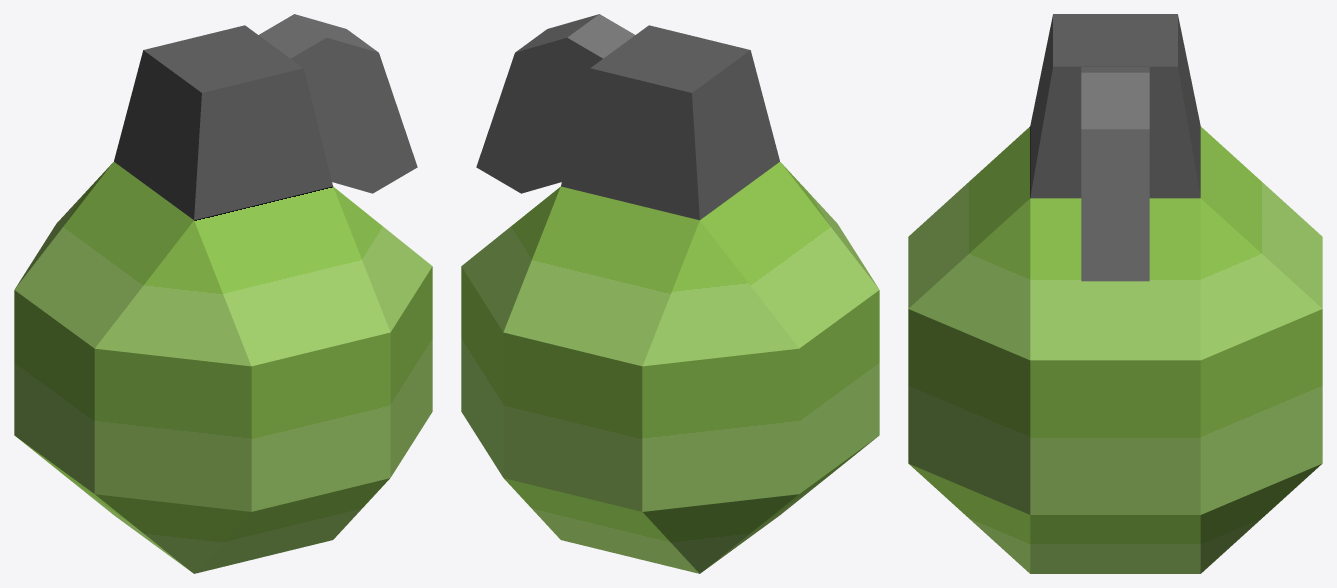
File: grenade.glb
3 views of the same model, side by side, from view 1: azimuth 30°, elevation 25°; view 2: azimuth 150°, elevation 25°; view 3: azimuth 270°, elevation 25° (orthographic). The views are drawn at different scales.
Visible parts, largest first — view 1: Cube; view 2: Cube; view 3: Cube.
Part boxes in pixels (x1,y1,x2,y2): Cube: (14,14,432,573); Cube: (461,14,879,573); Cube: (908,14,1322,573).
Size of the model in its own units: 2.05 by 2.72 by 2.
Materials: 1 (1 with a texture image).
